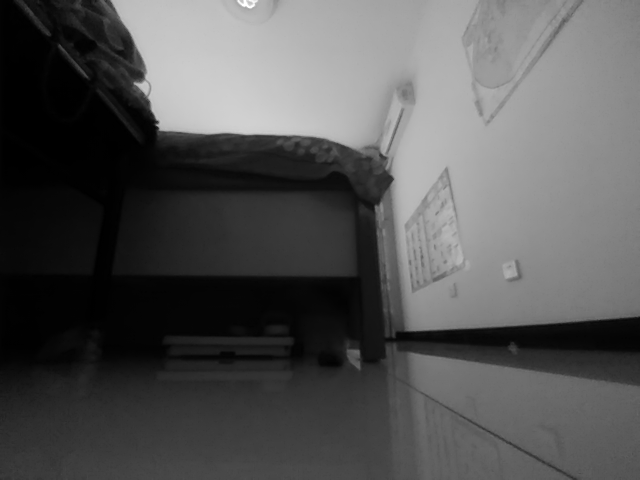pet feces: (314, 352, 344, 370), (217, 352, 236, 366)
